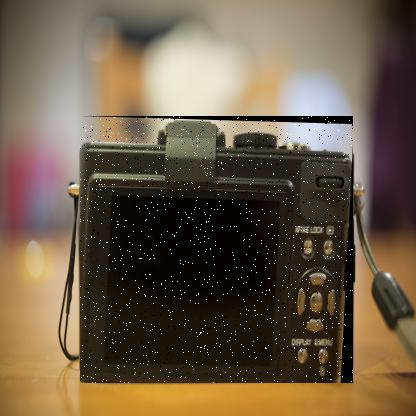Camera: (81, 118, 355, 386)
